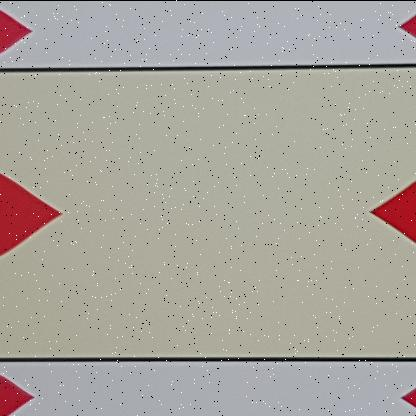2h: (0, 354, 46, 415), (0, 1, 41, 67)
